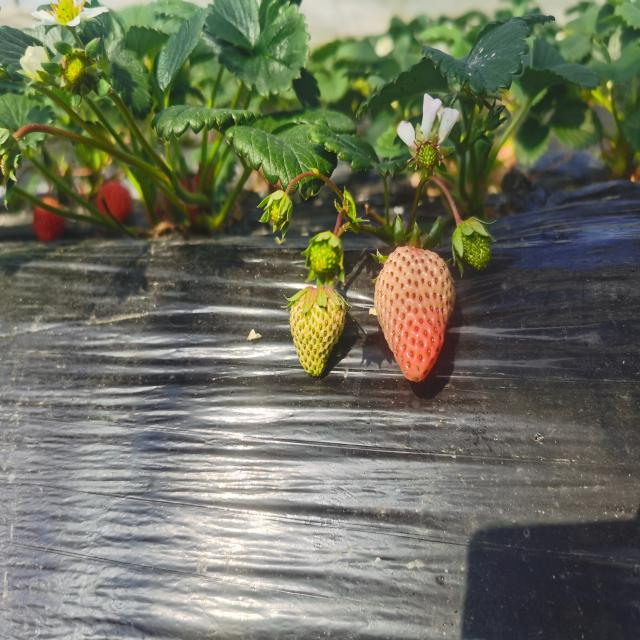strawberry: (374, 246, 456, 382)
